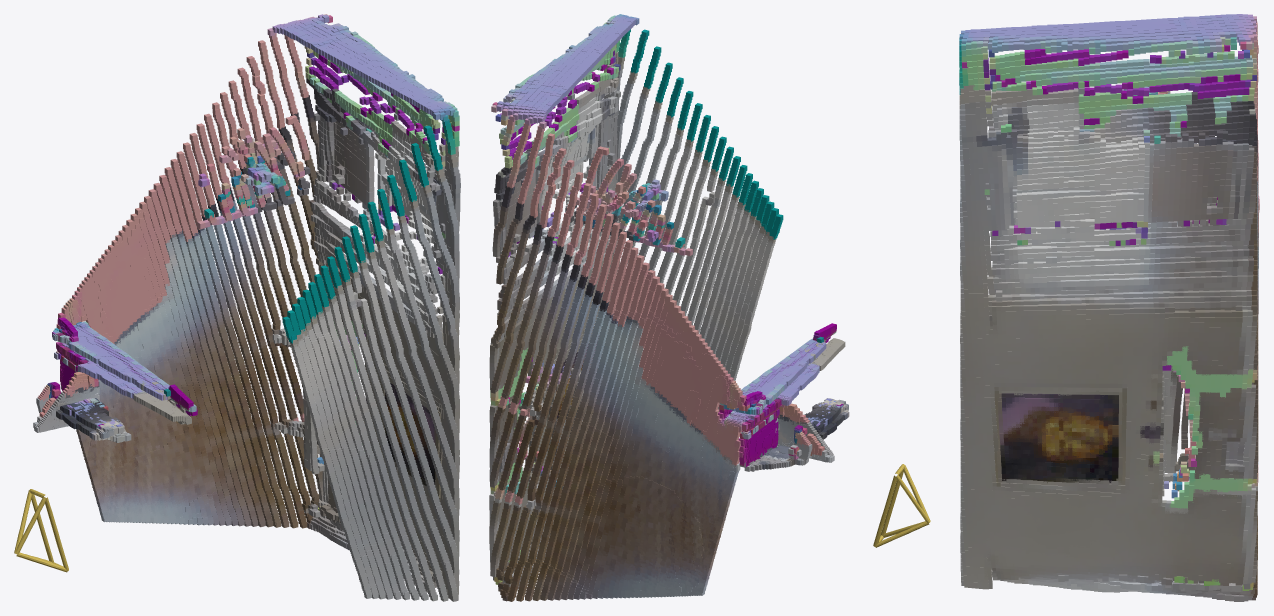
3 views of the same model, side by side, from view 1: azimuth 30°, elevation 25°; view 2: azimuth 150°, elevation 25°; view 3: azimuth 270°, elevation 25° (orthographic). The views are drawn at different scales.
Size of the model in its own units: 4.11 by 5.02 by 2.41.
